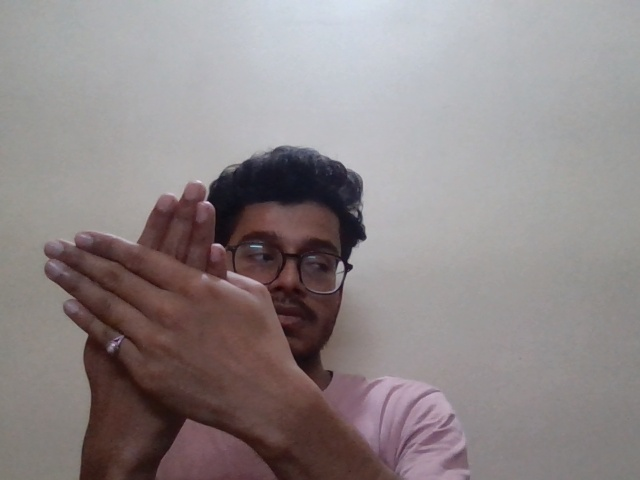what: (40, 182, 286, 397)
